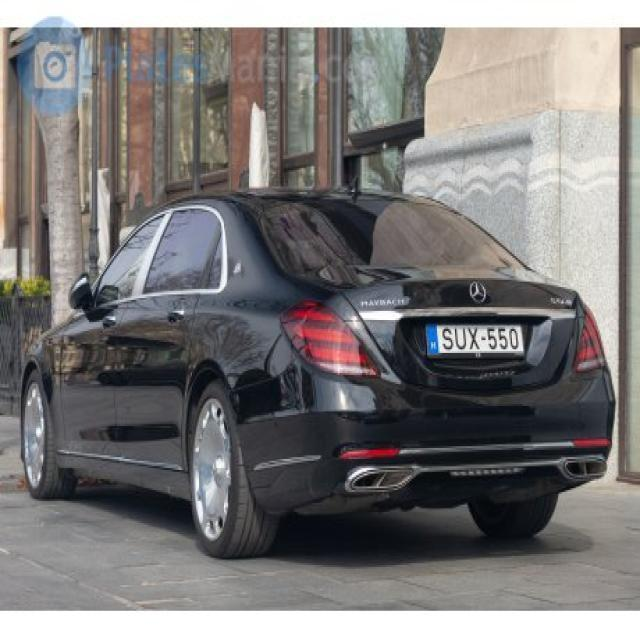licence: (423, 317, 529, 357)
